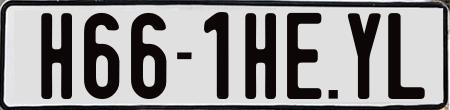1: (204, 11, 233, 104)
6: (129, 10, 164, 101), (83, 13, 119, 99)
E: (284, 10, 318, 96)
H: (242, 13, 275, 105), (38, 12, 72, 98)
L: (388, 10, 427, 99)
Y: (347, 10, 382, 102)
